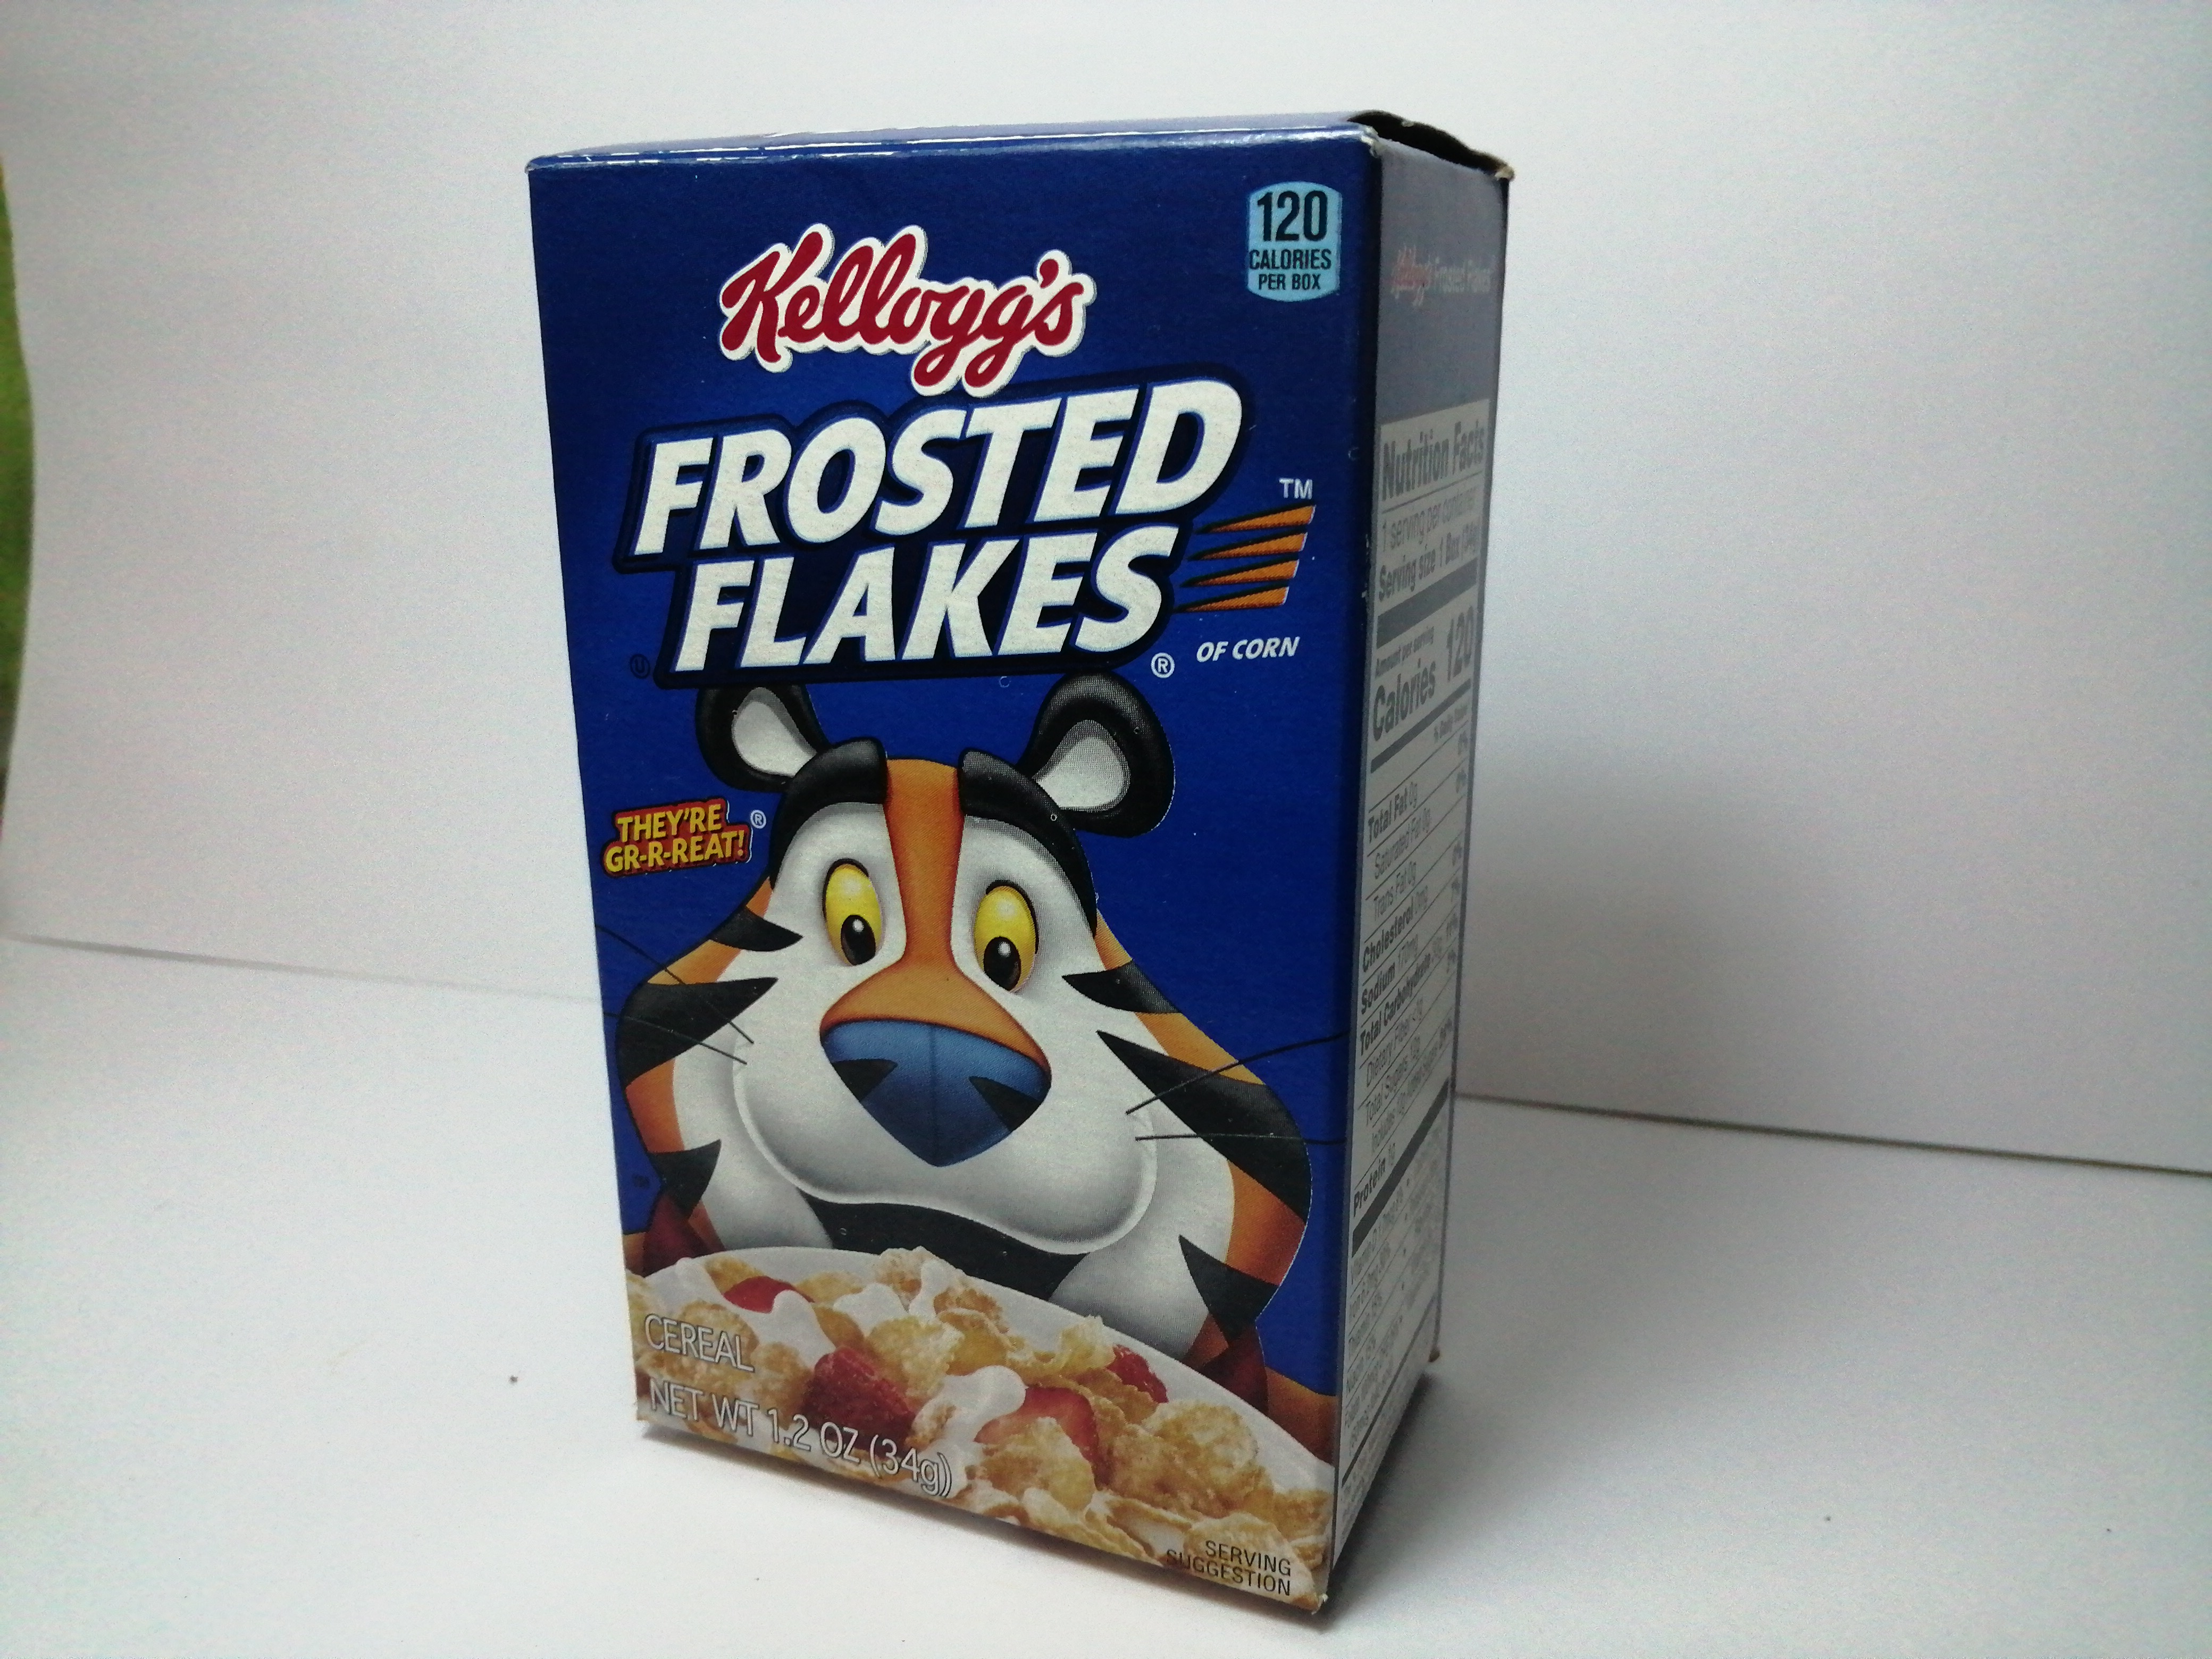cereal azucarado: (502, 80, 1529, 1640)
